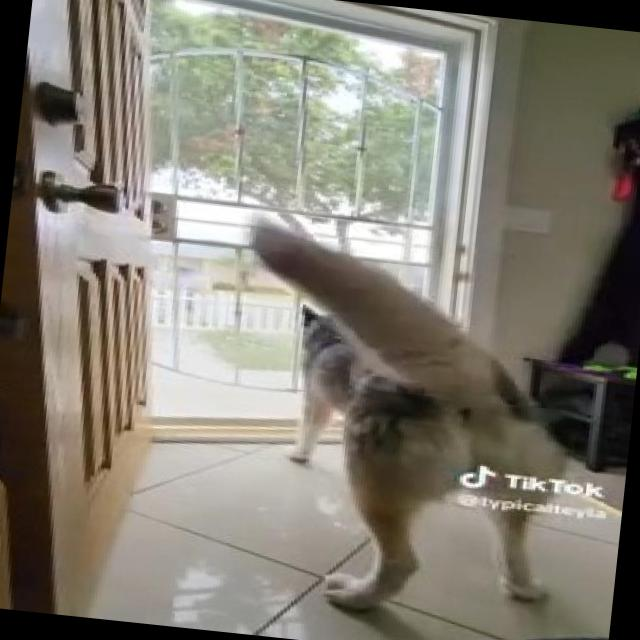dog: (204, 225, 593, 629)
